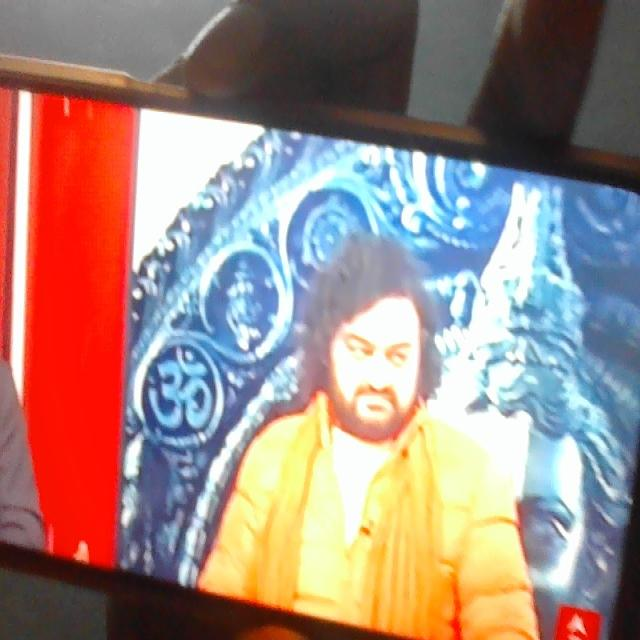fake: (307, 199, 449, 468)
